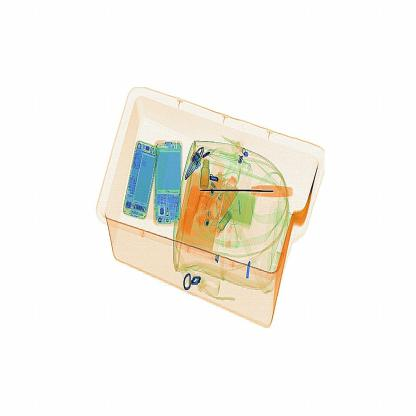wrench: (189, 178, 302, 205)
